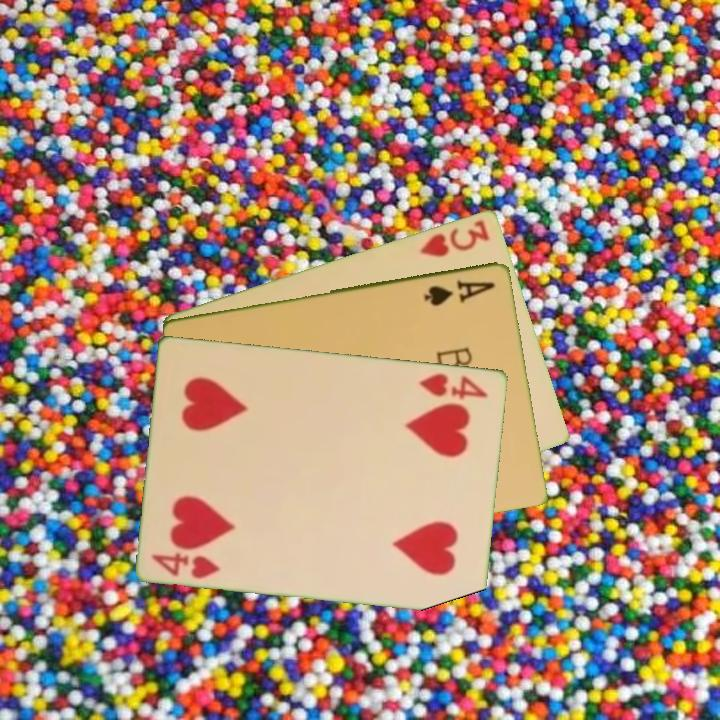3h: (416, 215, 493, 260)
4h: (416, 369, 492, 402), (148, 548, 223, 581)
As: (421, 276, 499, 308)
